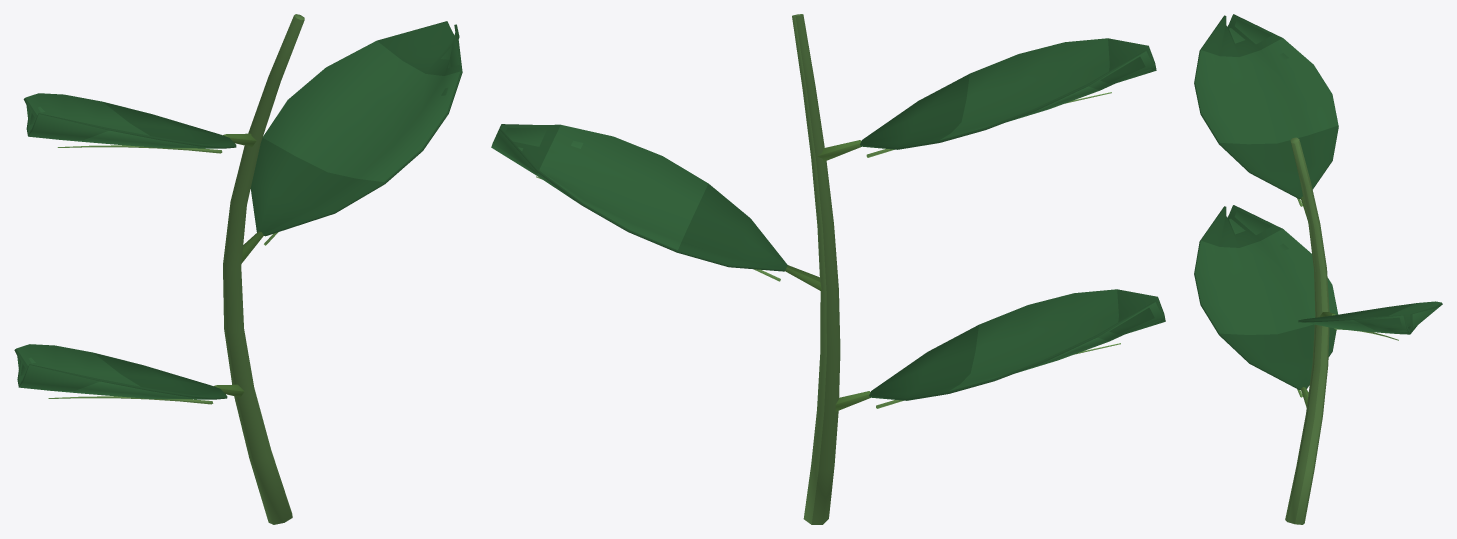
The model's file is garden-orchid-leaves-stem-1.glb.
The picture shows the model from 3 angles, left to right: view 1: azimuth 30°, elevation 25°; view 2: azimuth 150°, elevation 25°; view 3: azimuth 270°, elevation 25°; orthographic projection. The views are drawn at different scales.
Visible parts, largest first — view 1: orchid-leaves-stem-1; view 2: orchid-leaves-stem-1; view 3: orchid-leaves-stem-1.
Boxes of the visible parts, x1,y1,x2,y2 form: orchid-leaves-stem-1: [14, 14, 462, 524]; orchid-leaves-stem-1: [491, 14, 1165, 524]; orchid-leaves-stem-1: [1194, 14, 1442, 524].
Size of the model in its own units: 0.3437 by 0.3017 by 0.1703.
